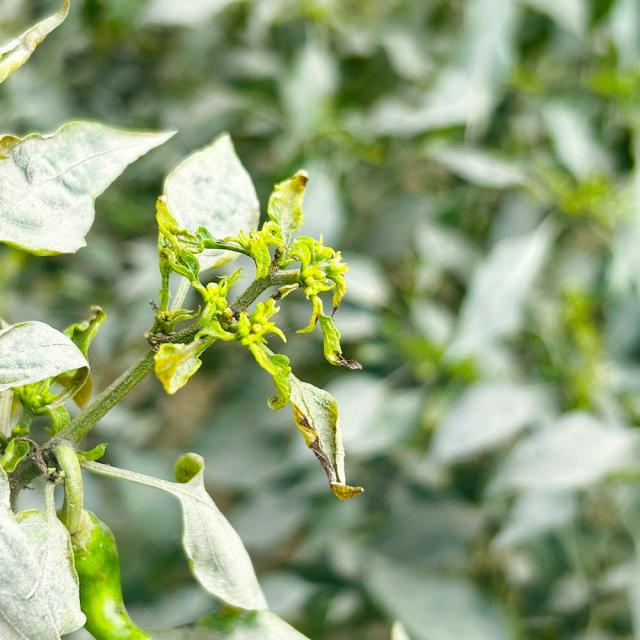Chilli_Leaf_Curl: (1, 1, 366, 638), (147, 131, 365, 501), (76, 450, 269, 612), (0, 118, 178, 256), (160, 130, 261, 276), (0, 506, 87, 638), (287, 371, 364, 501), (0, 319, 90, 392), (0, 0, 71, 84), (266, 168, 309, 242)
